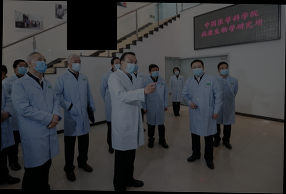with_mask: (33, 56, 48, 74), (125, 58, 139, 75), (15, 63, 29, 77), (70, 58, 82, 73), (192, 64, 205, 77), (219, 65, 230, 77), (150, 68, 161, 79), (113, 60, 123, 72), (174, 68, 181, 77)
